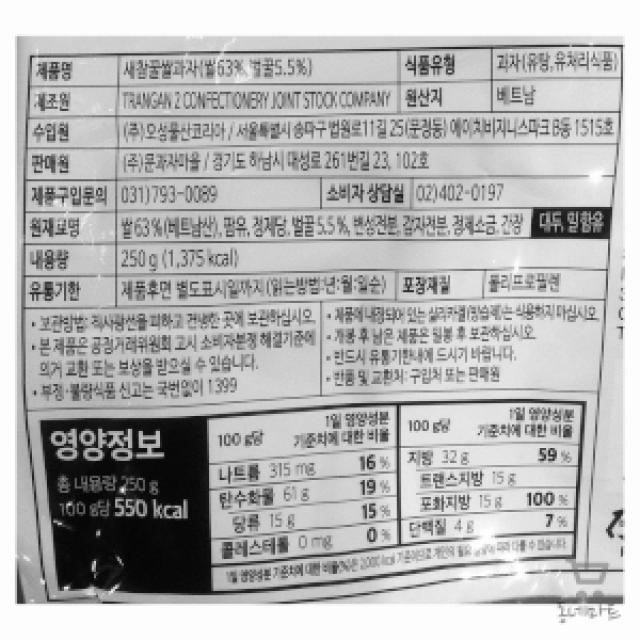Nutrition Label: (27, 398, 581, 592)
